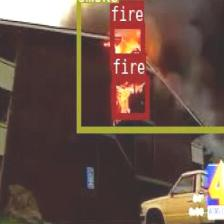fire: (111, 74, 149, 118), (109, 22, 144, 68)
smoke: (76, 0, 224, 131)
